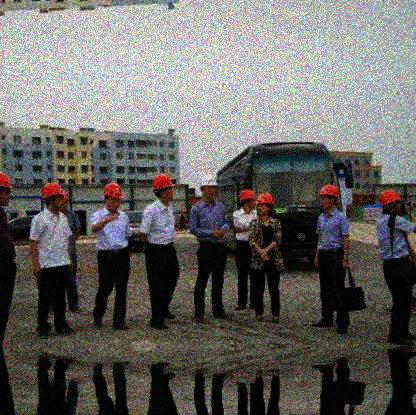helmet: (39, 183, 64, 212), (152, 175, 174, 207), (103, 183, 123, 213), (198, 176, 219, 204), (377, 191, 401, 215), (319, 185, 339, 213), (1, 172, 16, 207), (238, 190, 256, 213), (256, 194, 274, 217)
